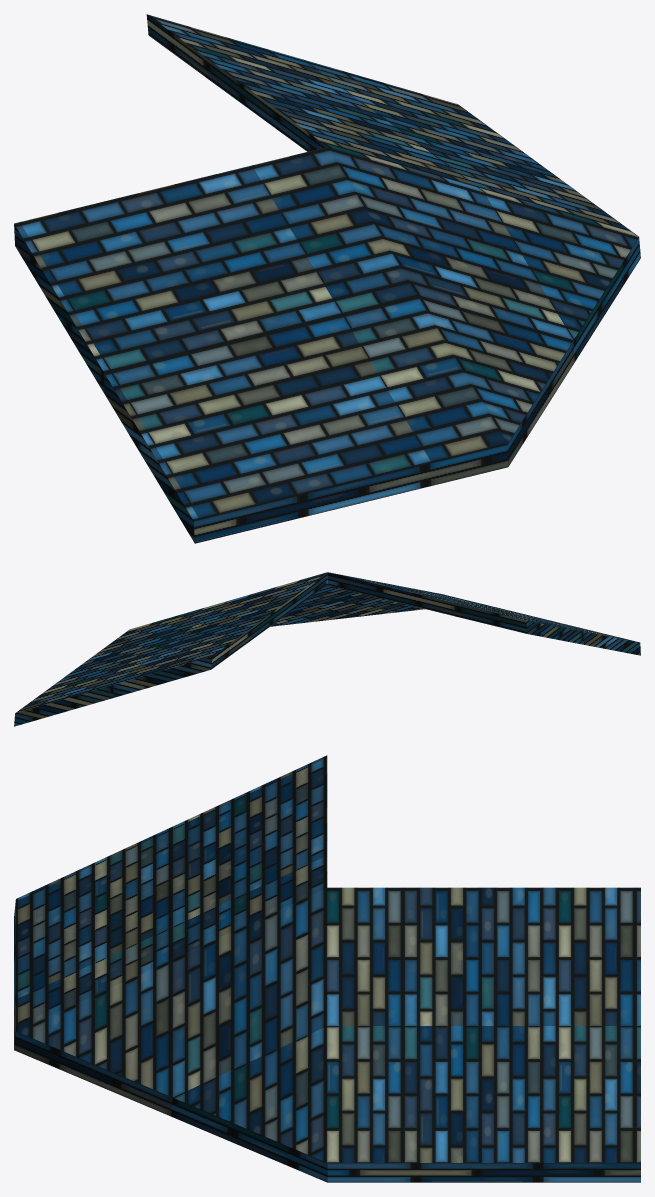
File: byzantine blue roof corner inverse.glb
3 views of the same model, one above another, from view 1: azimuth 30°, elevation 25°; view 2: azimuth 150°, elevation 25°; view 3: azimuth 270°, elevation 25° (orthographic). The views are drawn at different scales.
Parts seen in each view (by area): view 1: Preview_Byzantine_Blue_corner_inverse; view 2: Preview_Byzantine_Blue_corner_inverse; view 3: Preview_Byzantine_Blue_corner_inverse.
Part boxes in pixels (x1,y1,x2,y2): Preview_Byzantine_Blue_corner_inverse: (14, 14, 640, 543); Preview_Byzantine_Blue_corner_inverse: (14, 572, 640, 726); Preview_Byzantine_Blue_corner_inverse: (14, 755, 640, 1182).
Bounding box in the file's own units: 2 × 0.5726 × 2.
Materials: 1 (1 with a texture image).
